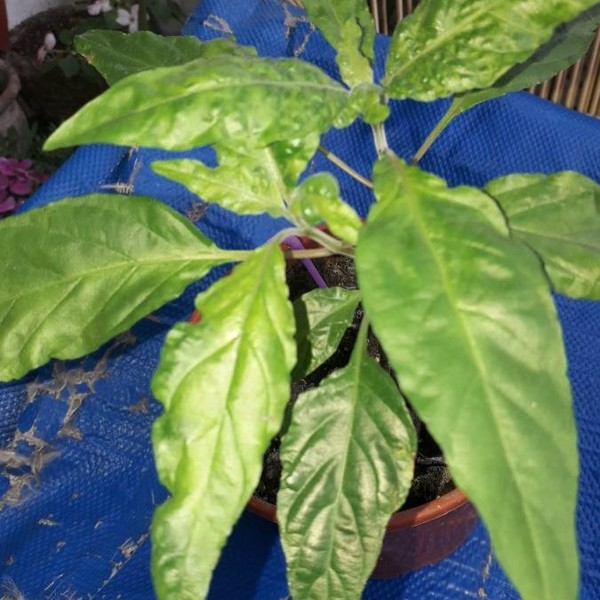obstacle: (90, 56, 540, 588)
